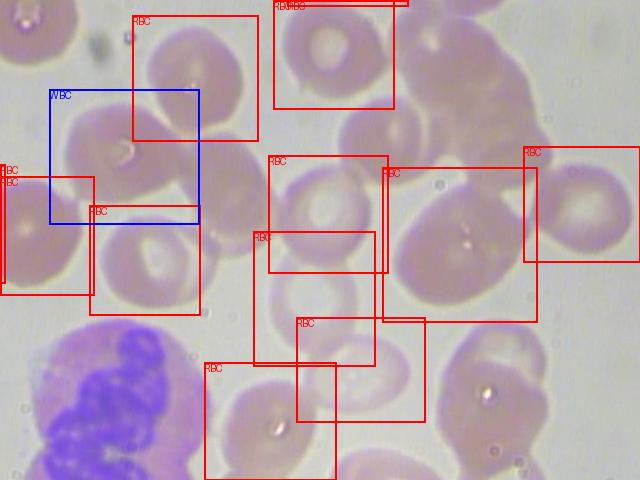RBC: (382, 167, 537, 322), (253, 231, 375, 366), (132, 15, 258, 141), (204, 362, 336, 480), (268, 155, 388, 273), (523, 146, 640, 262), (296, 317, 425, 422), (273, 0, 394, 109), (89, 205, 200, 315), (0, 176, 94, 295), (287, 0, 408, 6), (0, 164, 5, 283)
WBC: (49, 89, 199, 224)
